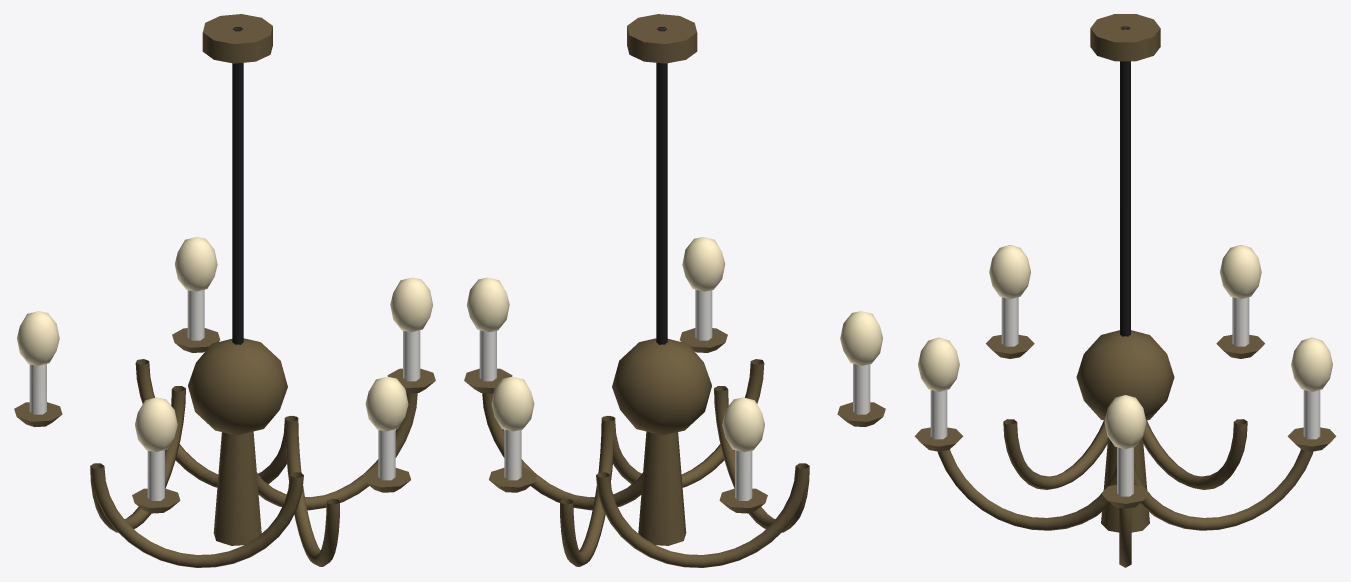
The model's file is chandelier.obj.
3 views of the same model, side by side, from view 1: azimuth 30°, elevation 25°; view 2: azimuth 150°, elevation 25°; view 3: azimuth 270°, elevation 25° (orthographic). The views are drawn at different scales.
Parts seen in each view (by area): view 1: chandelier_2, chandelier_3, chandelier_12, chandelier_0, chandelier_1, chandelier_8, chandelier_4, chandelier_20, chandelier_23, chandelier_7, chandelier_19, chandelier_15 (+12 smaller); view 2: chandelier_2, chandelier_3, chandelier_16, chandelier_0, chandelier_1, chandelier_20, chandelier_4, chandelier_8, chandelier_11, chandelier_7, chandelier_15, chandelier_19 (+12 smaller); view 3: chandelier_2, chandelier_0, chandelier_1, chandelier_8, chandelier_20, chandelier_12, chandelier_16, chandelier_7, chandelier_11, chandelier_15, chandelier_19, chandelier_23 (+12 smaller).
Part boxes in pixels (left/top/right/bottom): chandelier_2: left=188, top=338, right=287, bottom=435; chandelier_3: left=213, top=431, right=261, bottom=545; chandelier_12: left=90, top=463, right=303, bottom=567; chandelier_0: left=232, top=27, right=243, bottom=344; chandelier_1: left=202, top=14, right=272, bottom=63; chandelier_8: left=284, top=415, right=339, bottom=566; chandelier_4: left=257, top=393, right=417, bottom=510; chandelier_20: left=135, top=359, right=298, bottom=487; chandelier_23: left=174, top=237, right=217, bottom=291; chandelier_7: left=390, top=277, right=432, bottom=332; chandelier_19: left=17, top=311, right=59, bottom=365; chandelier_15: left=135, top=397, right=177, bottom=452; chandelier_2: left=612, top=338, right=711, bottom=435; chandelier_3: left=638, top=431, right=686, bottom=545; chandelier_16: left=596, top=463, right=809, bottom=567; chandelier_0: left=656, top=27, right=667, bottom=344; chandelier_1: left=627, top=14, right=697, bottom=63; chandelier_20: left=560, top=415, right=615, bottom=566; chandelier_4: left=482, top=393, right=642, bottom=510; chandelier_8: left=601, top=359, right=764, bottom=487; chandelier_11: left=682, top=237, right=725, bottom=291; chandelier_7: left=467, top=277, right=509, bottom=332; chandelier_15: left=840, top=311, right=882, bottom=365; chandelier_19: left=722, top=397, right=764, bottom=452; chandelier_2: left=1076, top=330, right=1174, bottom=420; chandelier_0: left=1120, top=26, right=1130, bottom=336; chandelier_1: left=1090, top=14, right=1160, bottom=61; chandelier_8: left=937, top=449, right=1116, bottom=530; chandelier_20: left=1134, top=449, right=1313, bottom=530; chandelier_12: left=1003, top=419, right=1107, bottom=489; chandelier_16: left=1143, top=419, right=1247, bottom=489; chandelier_7: left=1104, top=395, right=1146, bottom=449; chandelier_11: left=918, top=337, right=959, bottom=391; chandelier_15: left=989, top=245, right=1030, bottom=299; chandelier_19: left=1220, top=245, right=1261, bottom=299; chandelier_23: left=1291, top=337, right=1332, bottom=391.
Bounding box in the file's own units: 0.5765 × 0.78 × 0.6026.
